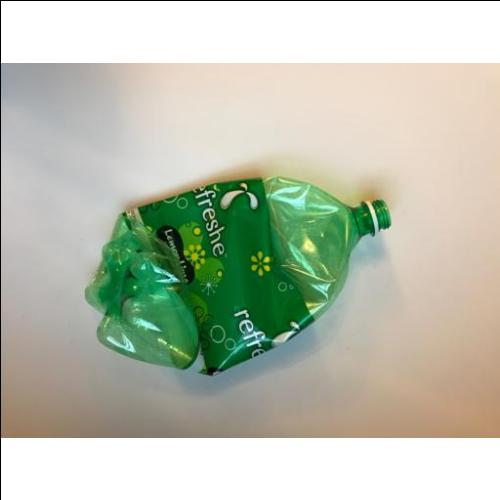plastic: (87, 176, 391, 379)
